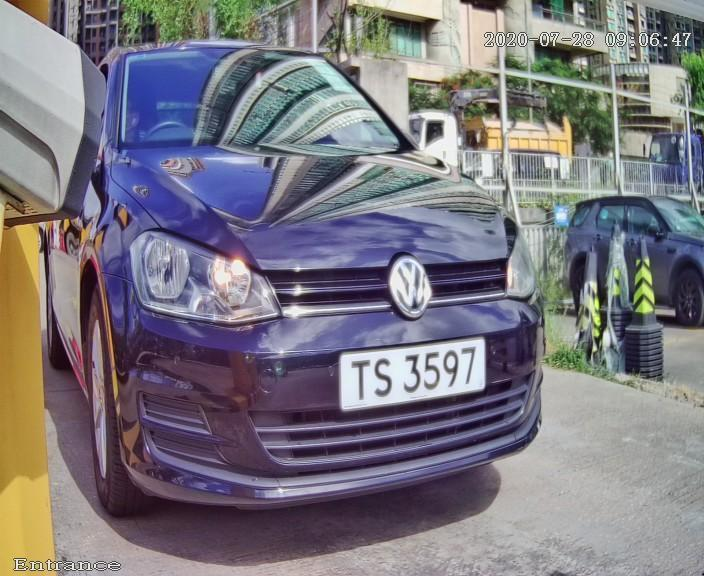privatecar: (4, 8, 639, 553)
